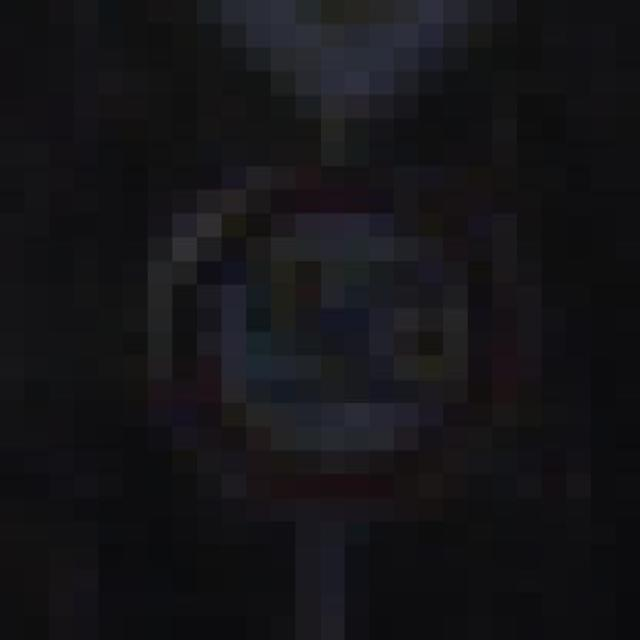50 mph speed limit: (98, 119, 517, 522)
